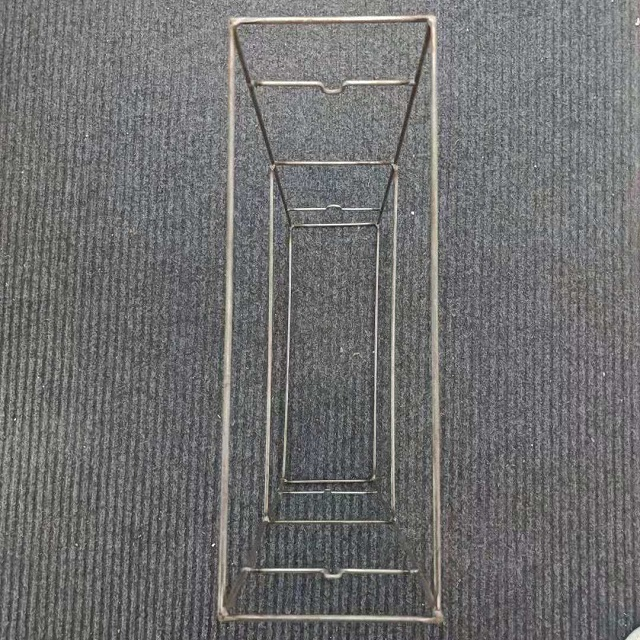curvedhole: (316, 71, 352, 104), (318, 561, 349, 588), (320, 196, 346, 223)
